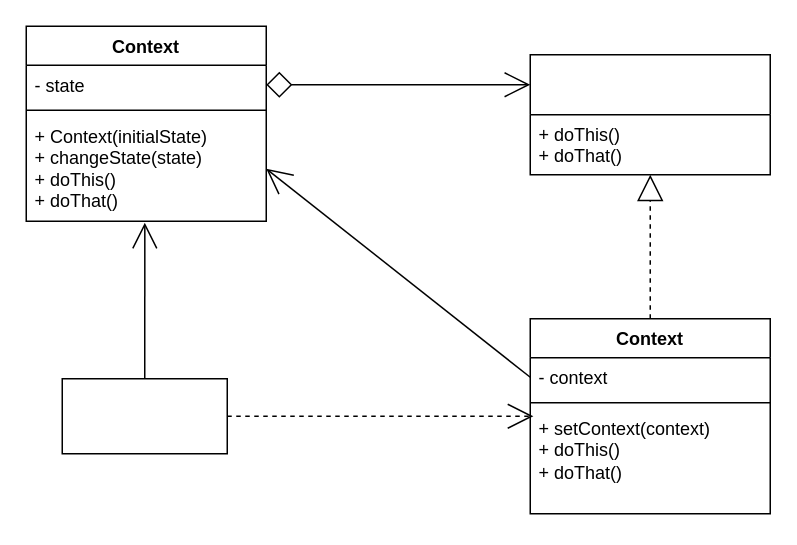
The diagram is 797 pixels wide and 545 high, and some of its shapes have lost their labels. Here are the shapes that lost their labels. From the top down, the box of each, then its label:
(529, 53, 770, 175): «interface» State
(61, 377, 227, 454): Client
